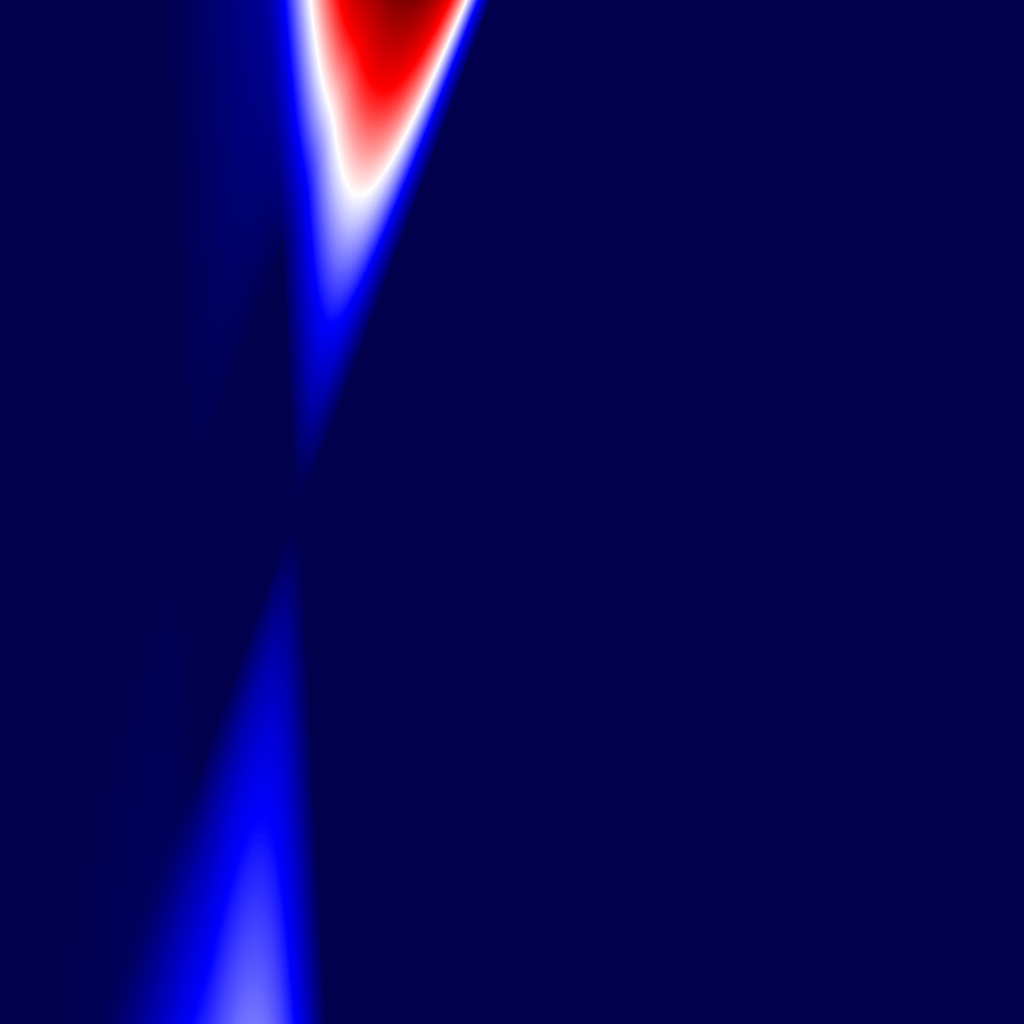diamond: (184, 236, 301, 788)
